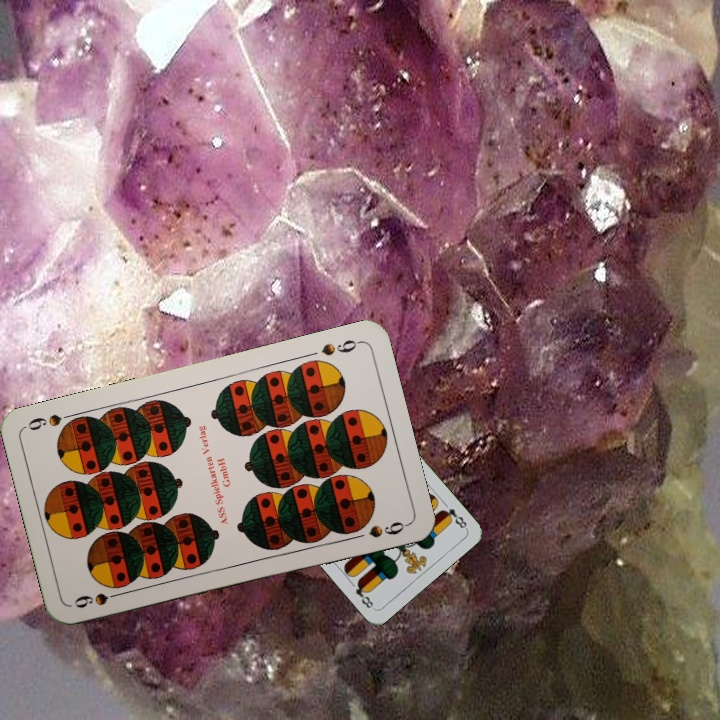E8: (436, 504, 469, 531)
S9: (70, 587, 128, 611), (317, 335, 364, 359)
